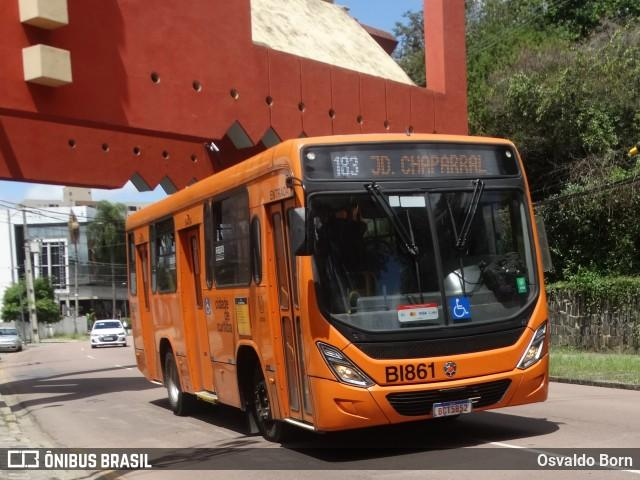JD CHAPARRAL: (363, 150, 490, 180)
